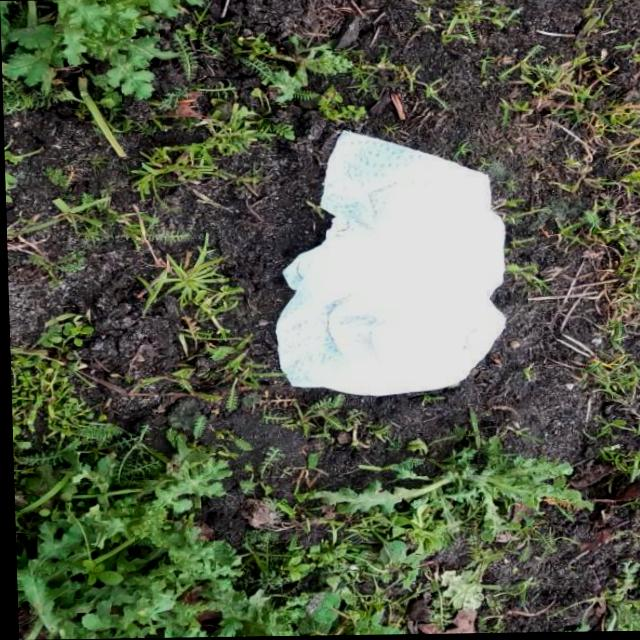Paper: (262, 128, 511, 401)
